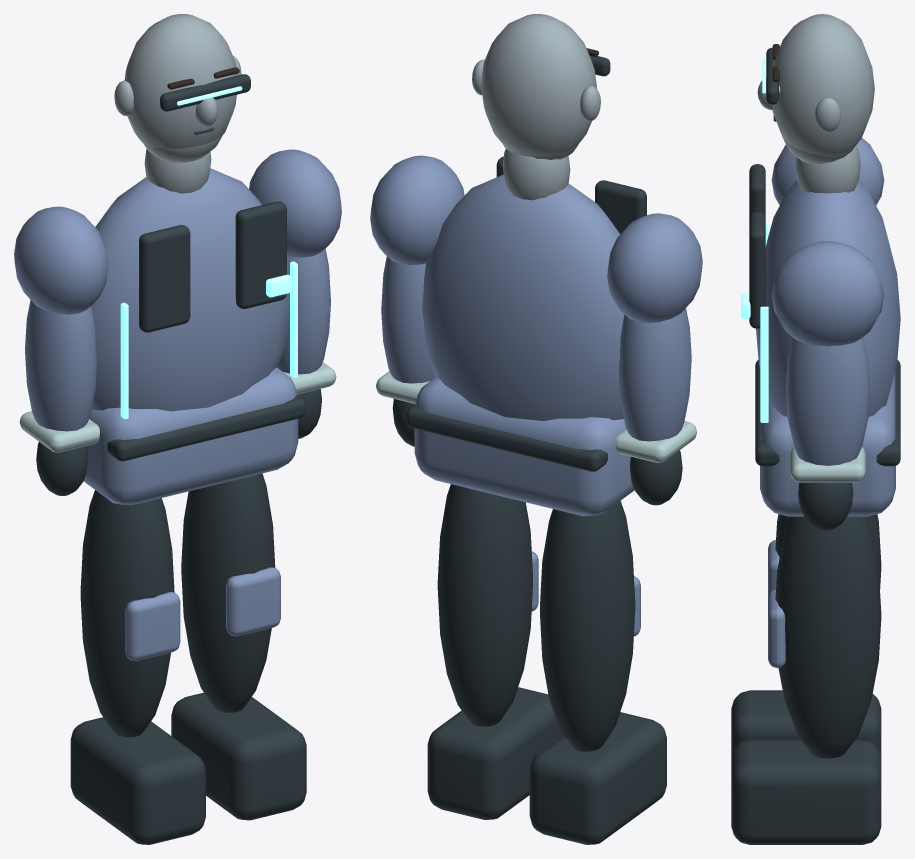
Rendered from npc-echo.glb.
3 renders of one model, left to right at view 1: azimuth 30°, elevation 25°; view 2: azimuth 150°, elevation 25°; view 3: azimuth 270°, elevation 25°, orthographic.
Parts seen in each view (by area): view 1: Coat torso, Trouser, Trouser.001, Coat hem, Boot, Boot.001, Face, Shoulder, Sleeve, Shoulder.001, Lapel, Lapel.001 (+13 smaller); view 2: Coat torso, Trouser, Trouser.001, Coat hem, Boot, Face, Boot.001, Shoulder, Sleeve, Shoulder.001, Sleeve.001, Belt (+6 smaller); view 3: Trouser.001, Boot.001, Coat torso, Face, Shoulder.001, Sleeve.001, Coat hem, Boot, Glove.001, Neck, Shoulder, Belt (+10 smaller).
Part boxes in pixels (x1,y1,x2,y2): Coat torso: (91,168,289,411); Trouser: (80,490,174,737); Trouser.001: (181,473,275,712); Coat hem: (83,367,298,505); Boot: (70,717,205,844); Boot.001: (171,692,306,820); Face: (124,14,237,148); Shoulder: (14,206,108,314); Sleeve: (25,300,96,431); Shoulder.001: (249,149,341,257); Lapel: (139,225,190,332); Lapel.001: (235,201,286,308); Coat torso: (422,174,624,420); Trouser: (540,501,635,751); Trouser.001: (437,484,532,726); Coat hem: (414,376,634,516); Boot: (529,712,666,844); Face: (481,14,597,156); Boot.001: (427,687,563,819); Shoulder: (607,213,702,322); Sleeve: (618,308,691,441); Shoulder.001: (370,155,464,265); Sleeve.001: (381,256,435,383); Belt: (406,404,607,471); Trouser.001: (775,516,881,758); Boot.001: (731,740,881,844); Coat torso: (756,180,900,416); Face: (772,14,874,156); Shoulder.001: (771,241,884,346); Sleeve.001: (785,337,870,465); Coat hem: (760,371,895,516); Boot: (731,690,881,757); Glove.001: (798,482,853,530); Neck: (795,145,860,193); Shoulder: (771,138,884,205); Belt: (755,360,900,466).
Size of the model in its own units: 0.772 by 1.86 by 0.361.
